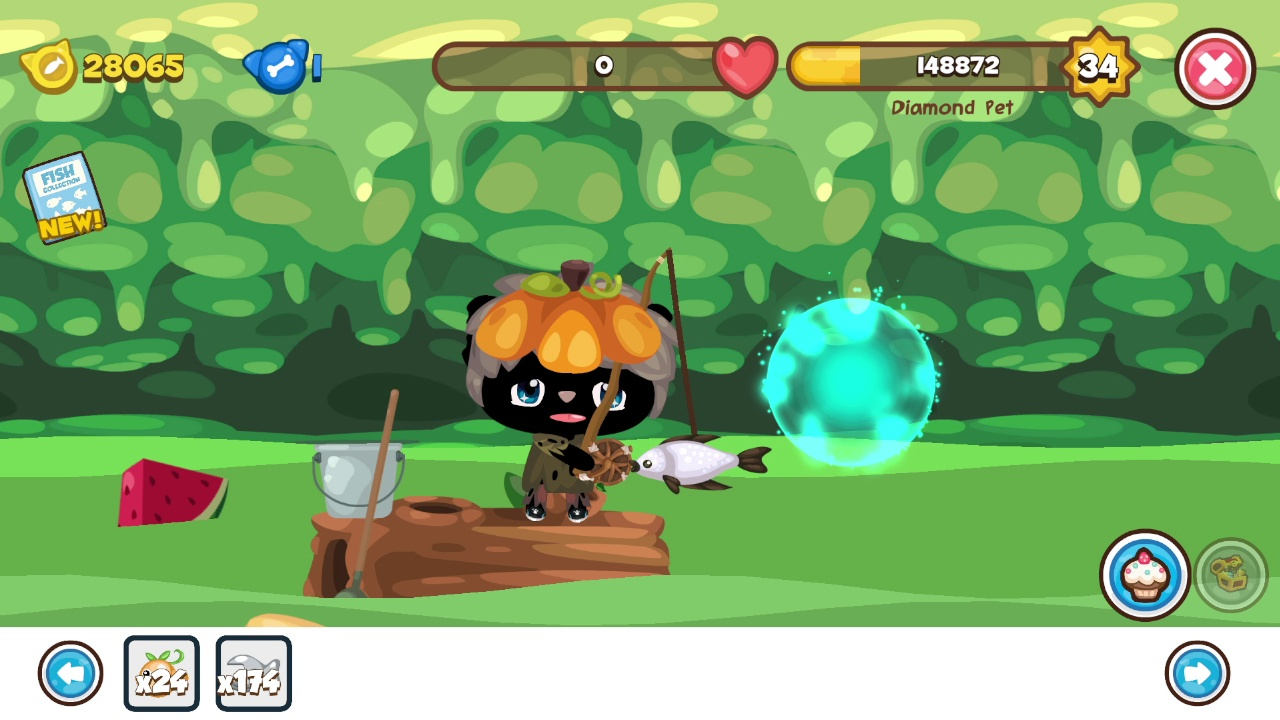point: (760, 294, 942, 468)
